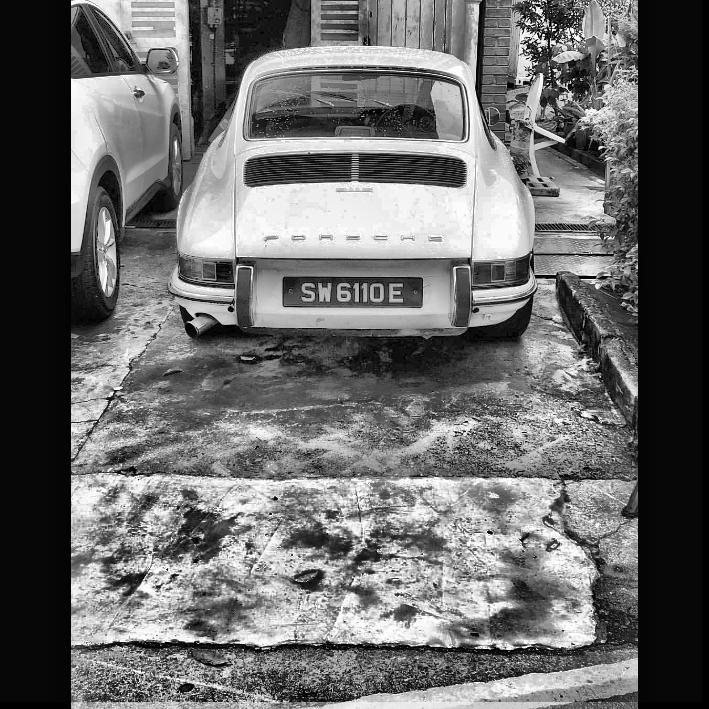License-Plates: (283, 277, 419, 304)
